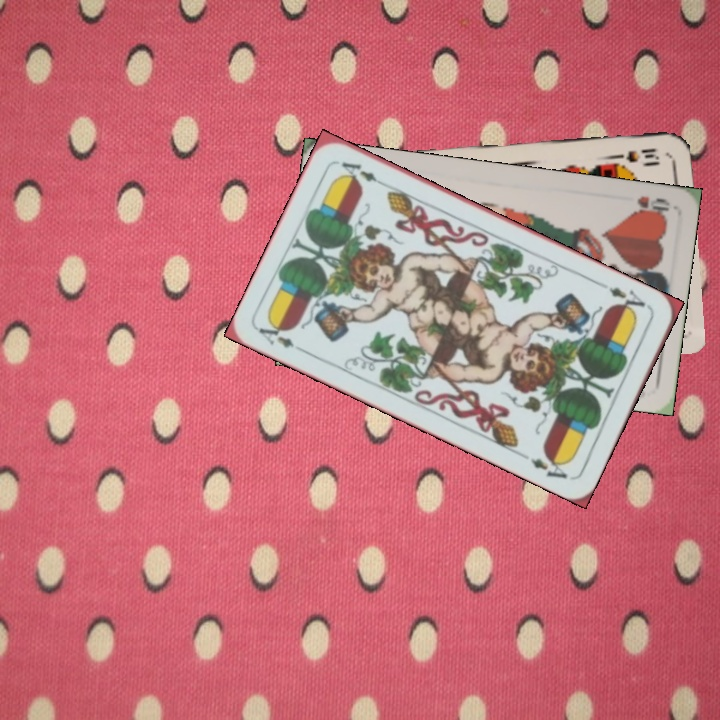EA: (254, 317, 310, 356), (604, 283, 653, 317)
HO: (630, 191, 672, 219)
S10: (608, 144, 663, 166)
